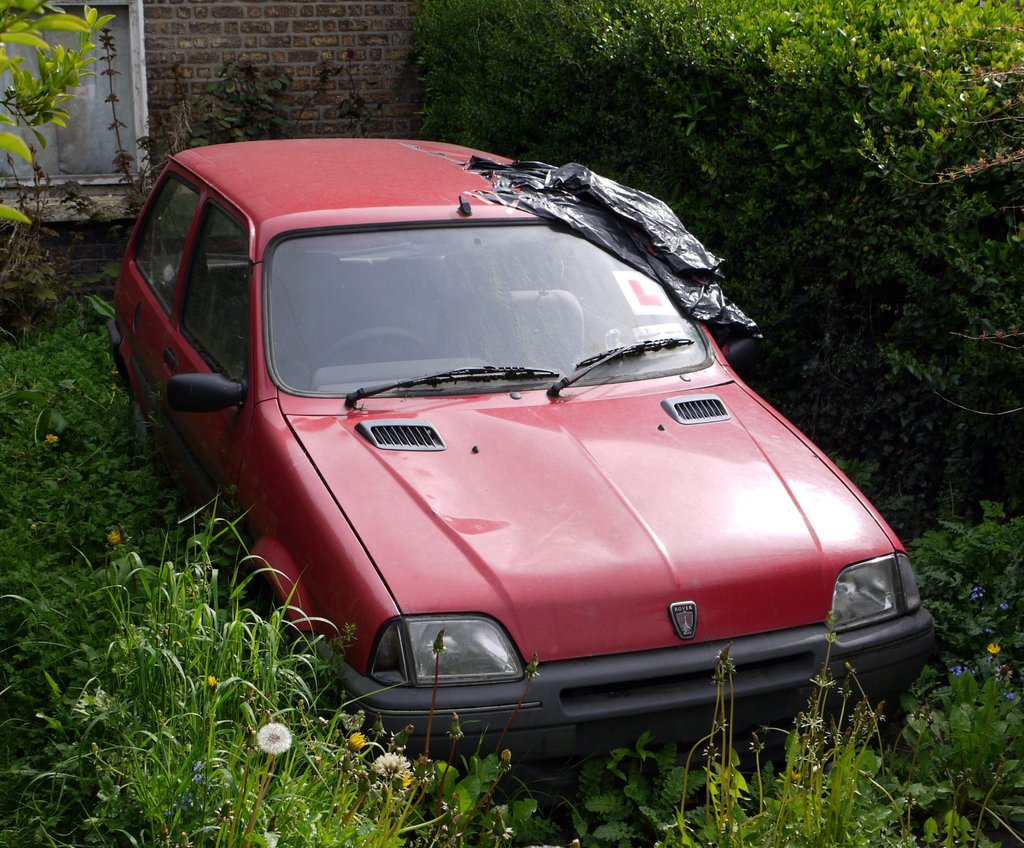cars: (108, 138, 957, 789)
